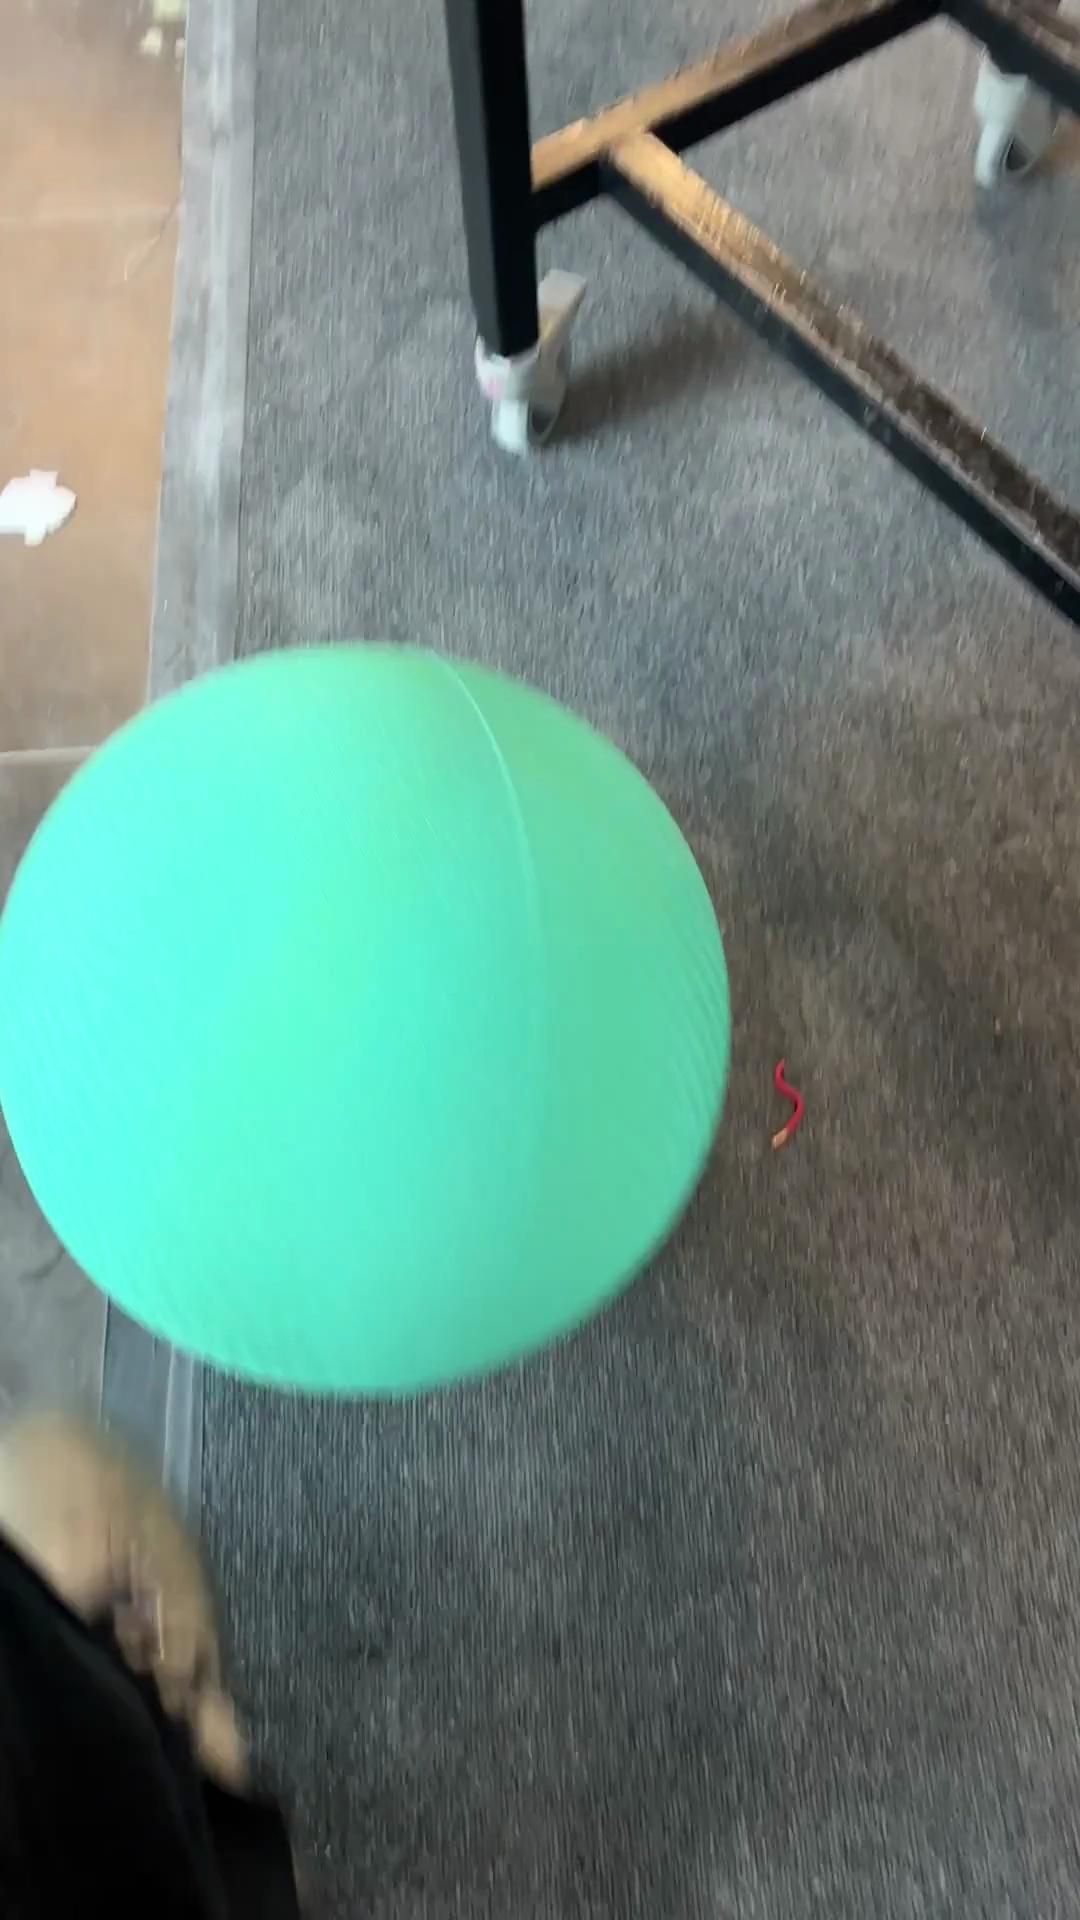ALGAE: (1, 637, 735, 1399)
